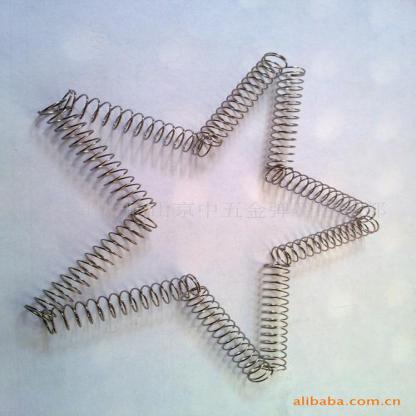FOD: (23, 209, 160, 319), (38, 100, 158, 214), (58, 87, 215, 157), (38, 272, 204, 332), (194, 48, 288, 148), (182, 285, 274, 382), (263, 164, 377, 223), (266, 216, 380, 265), (260, 63, 307, 174), (257, 261, 295, 373)
